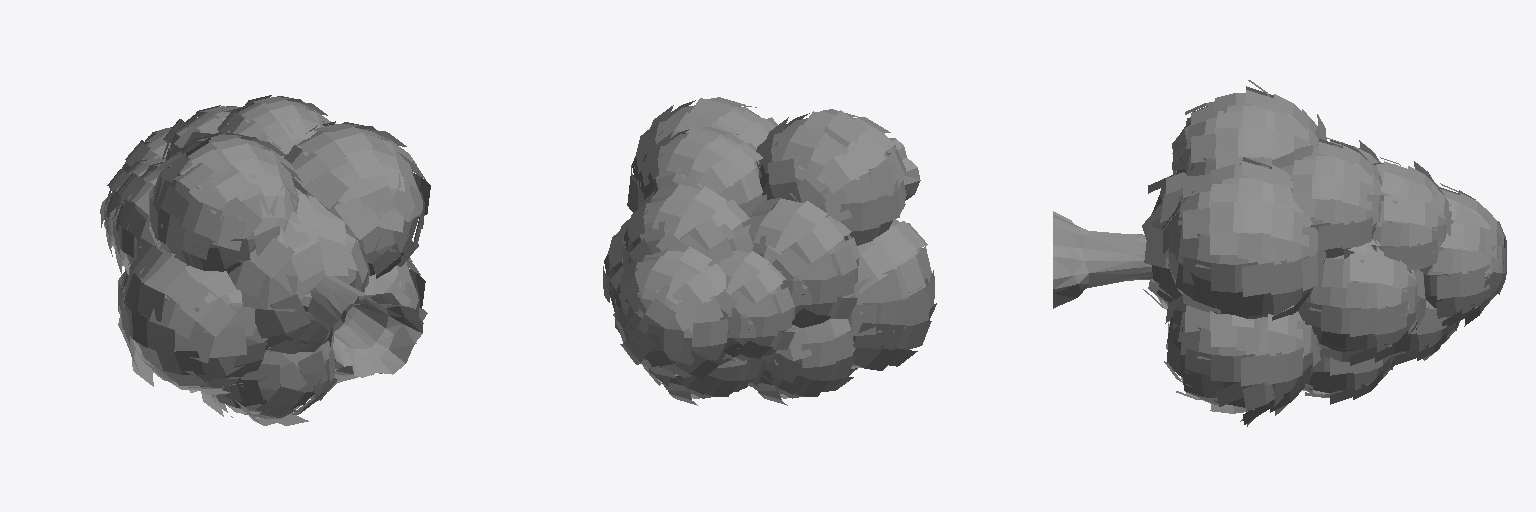
Rendered from Tree000.obj.
The picture shows the model from 3 angles: view 1: azimuth 30°, elevation 25°; view 2: azimuth 150°, elevation 25°; view 3: azimuth 270°, elevation 25°; orthographic projection.
Parts seen in each view (by area): view 1: Tree__TreeLeaf00, Tree__TreeBark01, Tree__TreeLeaf01_rep; view 2: Tree__TreeLeaf00, Tree__TreeLeaf01_rep, Tree__TreeBark01; view 3: Tree__TreeLeaf00, Tree__TreeBark01, Tree__TreeLeaf01_rep.
Boxes of the visible parts, <box> form: Tree__TreeLeaf00: <box>100,95,430,425</box>; Tree__TreeBark01: <box>301,276,423,377</box>; Tree__TreeLeaf01_rep: <box>106,99,418,412</box>; Tree__TreeLeaf00: <box>603,97,936,405</box>; Tree__TreeLeaf01_rep: <box>616,107,925,394</box>; Tree__TreeBark01: <box>883,133,920,200</box>; Tree__TreeLeaf00: <box>1142,80,1506,426</box>; Tree__TreeBark01: <box>1053,211,1152,308</box>; Tree__TreeLeaf01_rep: <box>1173,105,1500,407</box>.
Bounding box in the file's own units: 813 × 792 × 1102.